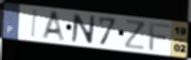7: (98, 15, 119, 47)
A: (40, 10, 68, 44)
F: (148, 22, 172, 52)
I: (30, 8, 39, 40)
N: (70, 12, 97, 46)
Z: (124, 18, 146, 51)
